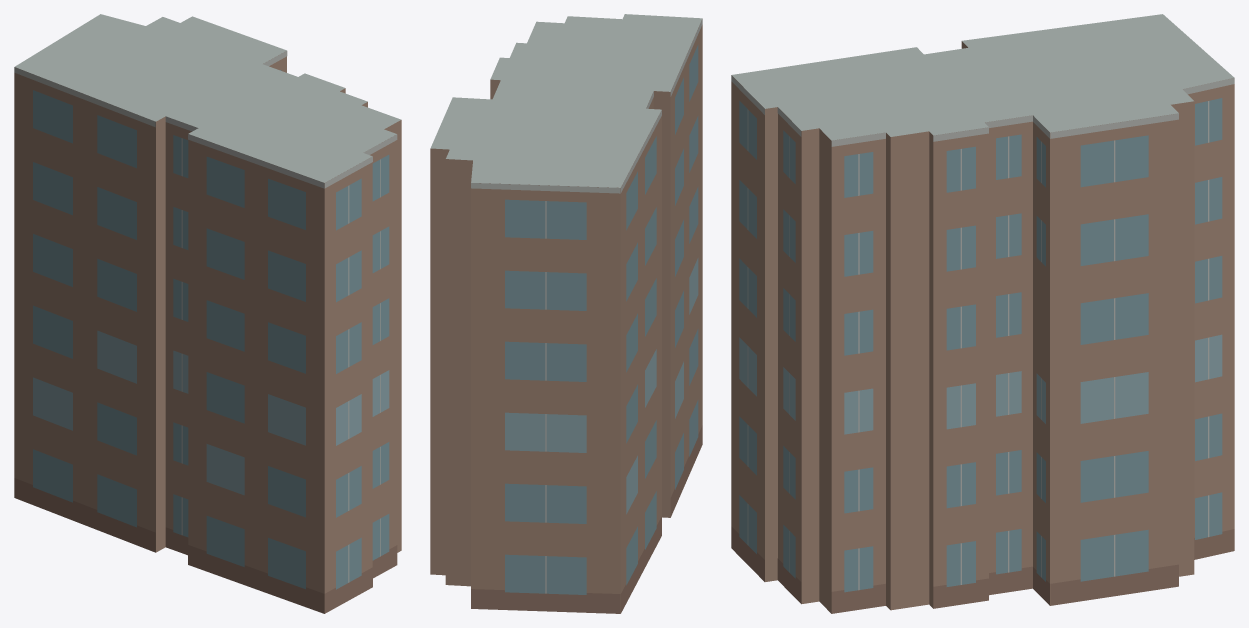
File: survey-upis-32726602.glb
3 renders of one model, left to right at view 1: azimuth 30°, elevation 25°; view 2: azimuth 150°, elevation 25°; view 3: azimuth 270°, elevation 25°, orthographic. The views are drawn at different scales.
Visible parts, largest first — view 1: survey-upis-32726602.tmp; view 2: survey-upis-32726602.tmp; view 3: survey-upis-32726602.tmp.
Part boxes in pixels (box(x1,y1,x2,y2)): survey-upis-32726602.tmp: box(14, 14, 401, 613); survey-upis-32726602.tmp: box(430, 14, 702, 613); survey-upis-32726602.tmp: box(731, 14, 1234, 613).
Size of the model in its own units: 10.51 by 18.3 by 17.64.
